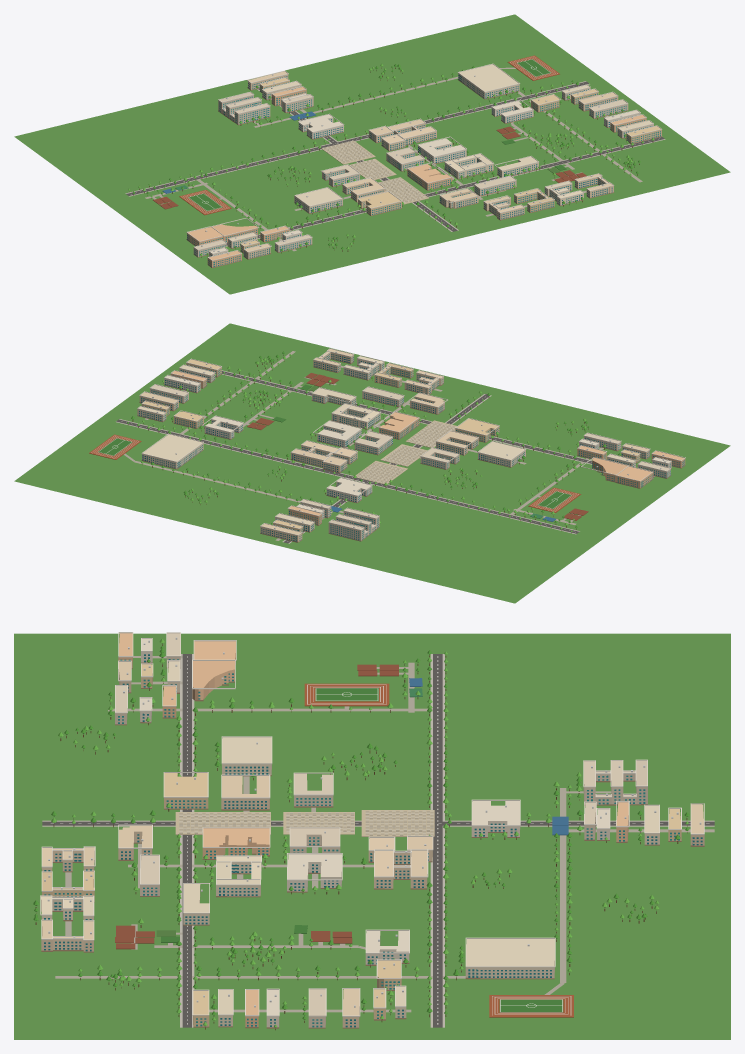
Rendered from campus.glb.
The picture shows the model from 3 angles, top to bottom: view 1: azimuth 30°, elevation 25°; view 2: azimuth 150°, elevation 25°; view 3: azimuth 270°, elevation 25°; orthographic projection. The views are drawn at different scales.
Parts seen in each view (by area): view 1: SCENERY_ground, SCENERY_building_detail, SCENERY_windows, SCENERY_trees, SCENERY_roads, SCENERY_walkways, SCENERY_sidewalks, SCENERY_plaza_tiles, PLACE_gym, PLACE_teaching_1, PLACE_dormitory_19, SCENERY_track_field (+18 smaller); view 2: SCENERY_ground, SCENERY_building_detail, SCENERY_windows, SCENERY_trees, SCENERY_roads, SCENERY_sidewalks, SCENERY_plaza_tiles, SCENERY_walkways, PLACE_gym, PLACE_teaching_1, PLACE_dormitory_19, PLACE_canteen_1 (+18 smaller); view 3: SCENERY_ground, SCENERY_building_detail, SCENERY_trees, SCENERY_roads, SCENERY_walkways, SCENERY_plaza_tiles, SCENERY_sidewalks, SCENERY_windows, PLACE_gym, SCENERY_track_field, PLACE_teaching_1, PLACE_canteen_1 (+23 smaller).
Boxes of the visible parts, x1,y1,x2,y2 form: SCENERY_ground: (14, 14, 730, 294); SCENERY_building_detail: (186, 63, 662, 268); SCENERY_windows: (187, 75, 660, 266); SCENERY_trees: (128, 63, 654, 257); SCENERY_roads: (126, 81, 664, 245); SCENERY_walkways: (145, 67, 642, 251); SCENERY_sidewalks: (125, 81, 665, 246); SCENERY_plaza_tiles: (322, 140, 427, 202); PLACE_gym: (458, 64, 519, 98); PLACE_teaching_1: (369, 119, 436, 150); PLACE_dormitory_19: (218, 92, 270, 124); SCENERY_track_field: (181, 56, 557, 213); SCENERY_ground: (14, 323, 730, 603); SCENERY_building_detail: (137, 348, 685, 542); SCENERY_windows: (139, 354, 684, 541); SCENERY_trees: (127, 351, 671, 533); SCENERY_roads: (116, 371, 654, 543); SCENERY_sidewalks: (116, 370, 654, 543); SCENERY_plaza_tiles: (356, 421, 455, 483); SCENERY_walkways: (124, 351, 603, 540); PLACE_gym: (142, 434, 203, 468); PLACE_teaching_1: (291, 441, 357, 472); PLACE_dormitory_19: (328, 508, 379, 540); PLACE_canteen_1: (592, 458, 653, 488); SCENERY_ground: (14, 633, 730, 1039); SCENERY_building_detail: (40, 632, 704, 1028); SCENERY_trees: (33, 638, 689, 1030); SCENERY_roads: (42, 654, 714, 1027); SCENERY_walkways: (55, 656, 714, 1012); SCENERY_plaza_tiles: (179, 810, 433, 835); SCENERY_sidewalks: (42, 654, 714, 1027); SCENERY_windows: (44, 654, 702, 1027); PLACE_gym: (465, 939, 554, 978); SCENERY_track_field: (307, 684, 571, 1015); PLACE_teaching_1: (368, 837, 432, 888); PLACE_canteen_1: (192, 641, 235, 700).
Bounding box in the file's own units: 729 × 16.89 × 544.
